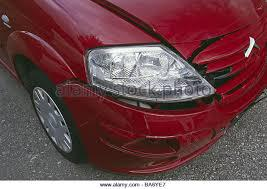front-bumper-dent: (79, 100, 226, 179)
